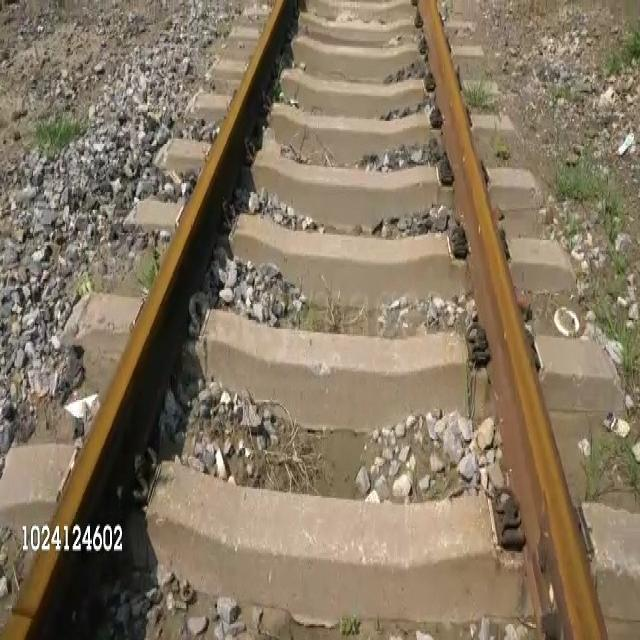Plant: (599, 319, 634, 369), (551, 168, 607, 199), (36, 124, 83, 153), (604, 34, 639, 72), (600, 195, 623, 245), (612, 250, 629, 287), (465, 82, 489, 106)
